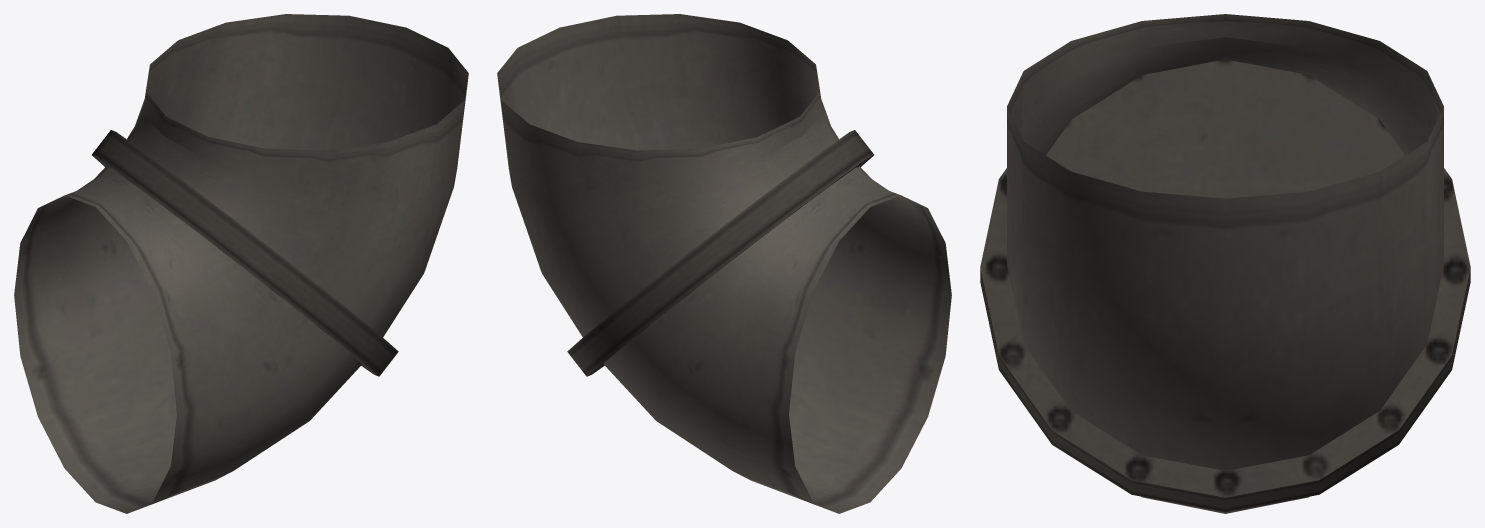
Rendered from com_pipe_8_90angle_white_clean_lod0.glb.
3 views of the same model, side by side, from view 1: azimuth 30°, elevation 25°; view 2: azimuth 150°, elevation 25°; view 3: azimuth 270°, elevation 25° (orthographic). The views are drawn at different scales.
Visible parts, largest first — view 1: surf0; view 2: surf0; view 3: surf0.
Boxes of the visible parts, x1=… form: surf0: x1=14, y1=14, x2=468, y2=513; surf0: x1=497, y1=14, x2=951, y2=513; surf0: x1=980, y1=14, x2=1470, y2=513.
Size of the model in its own units: 20.04 by 20 by 18.
